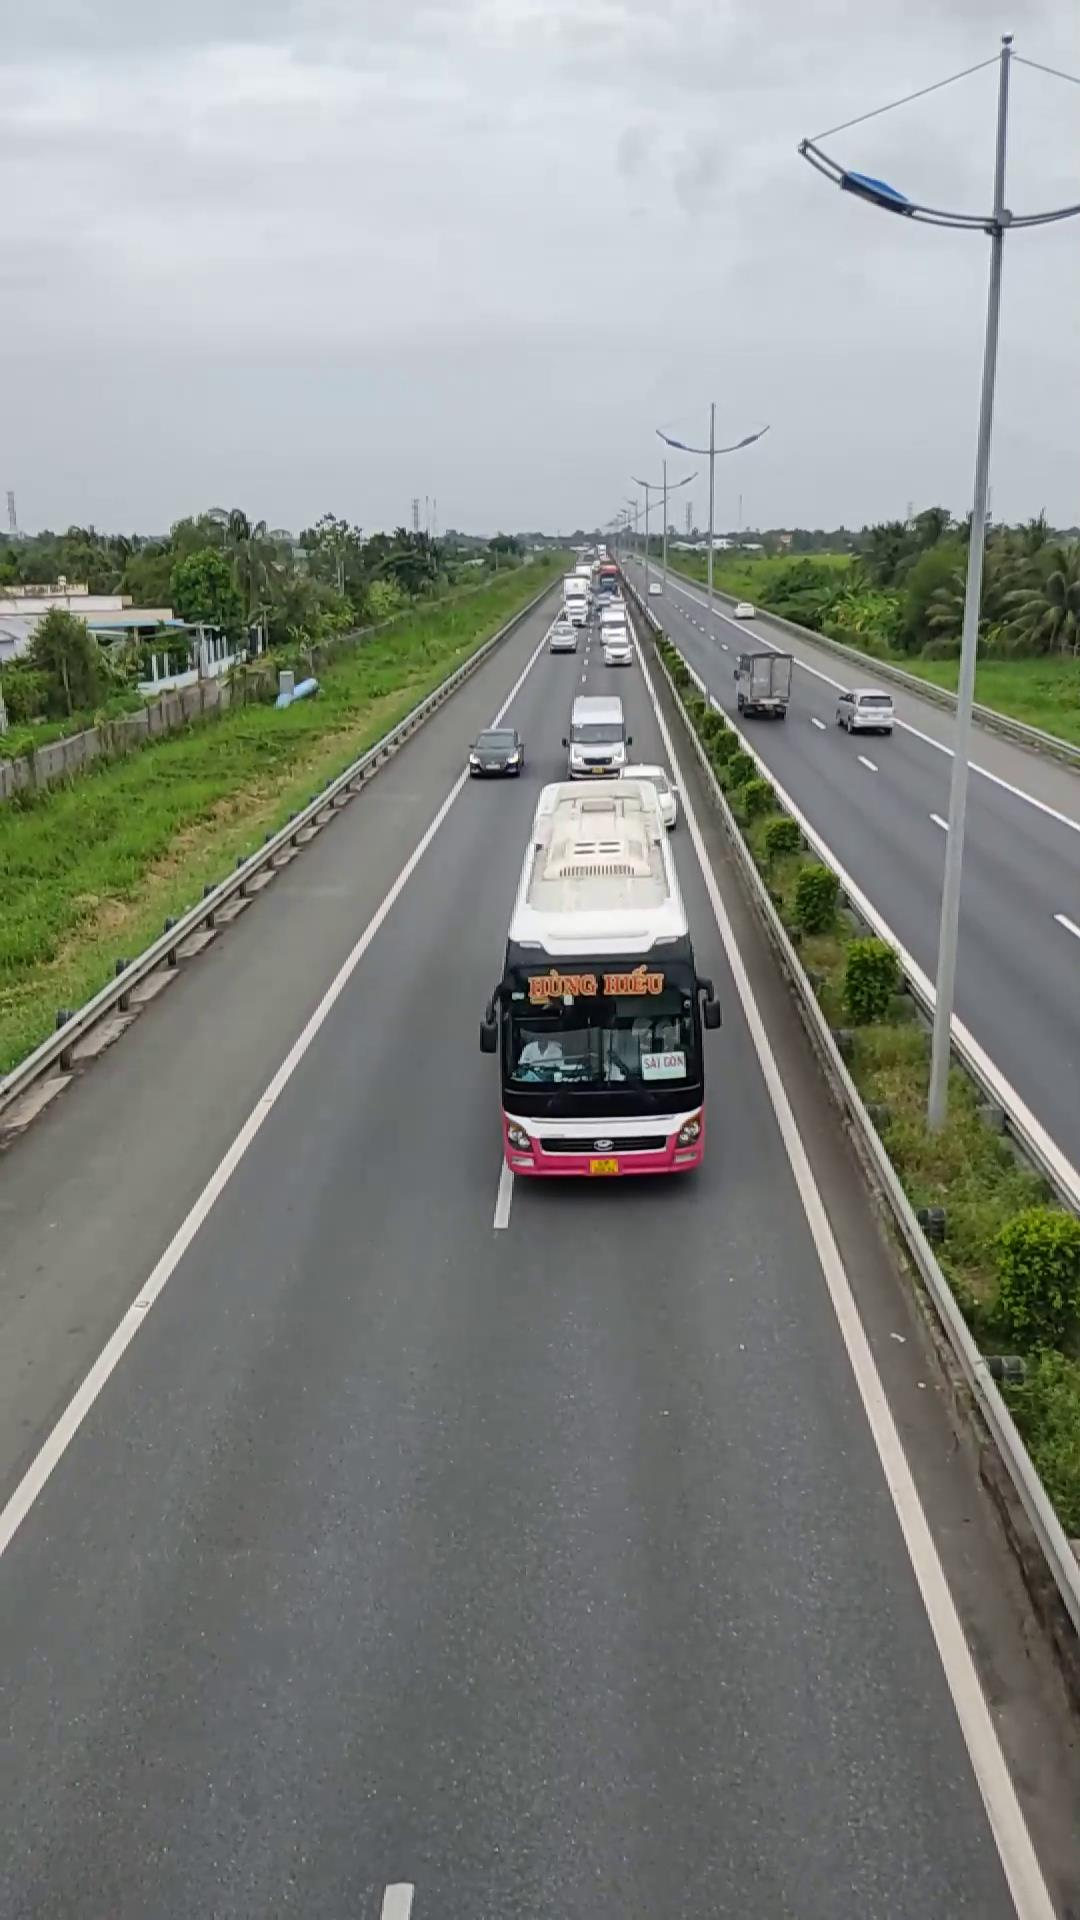bus: (479, 766, 716, 1184)
truck: (732, 646, 791, 717)
